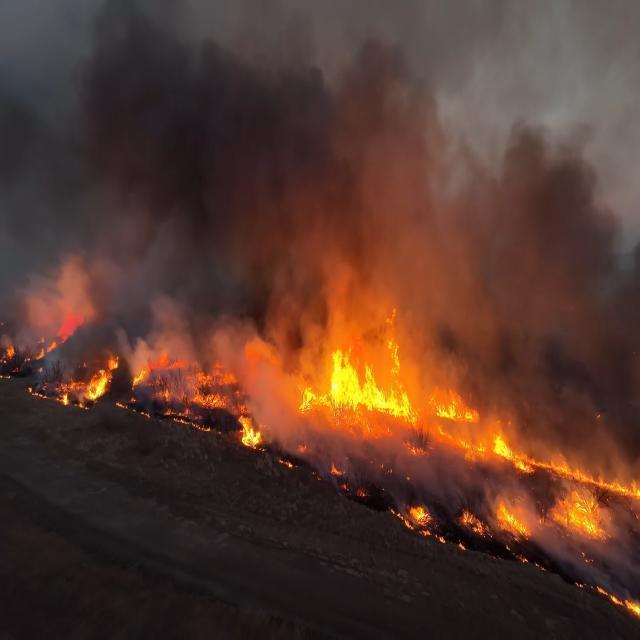Fire: (329, 338, 414, 421), (560, 482, 600, 542)
Smoke: (81, 5, 314, 327), (304, 11, 534, 303), (446, 50, 634, 375)
